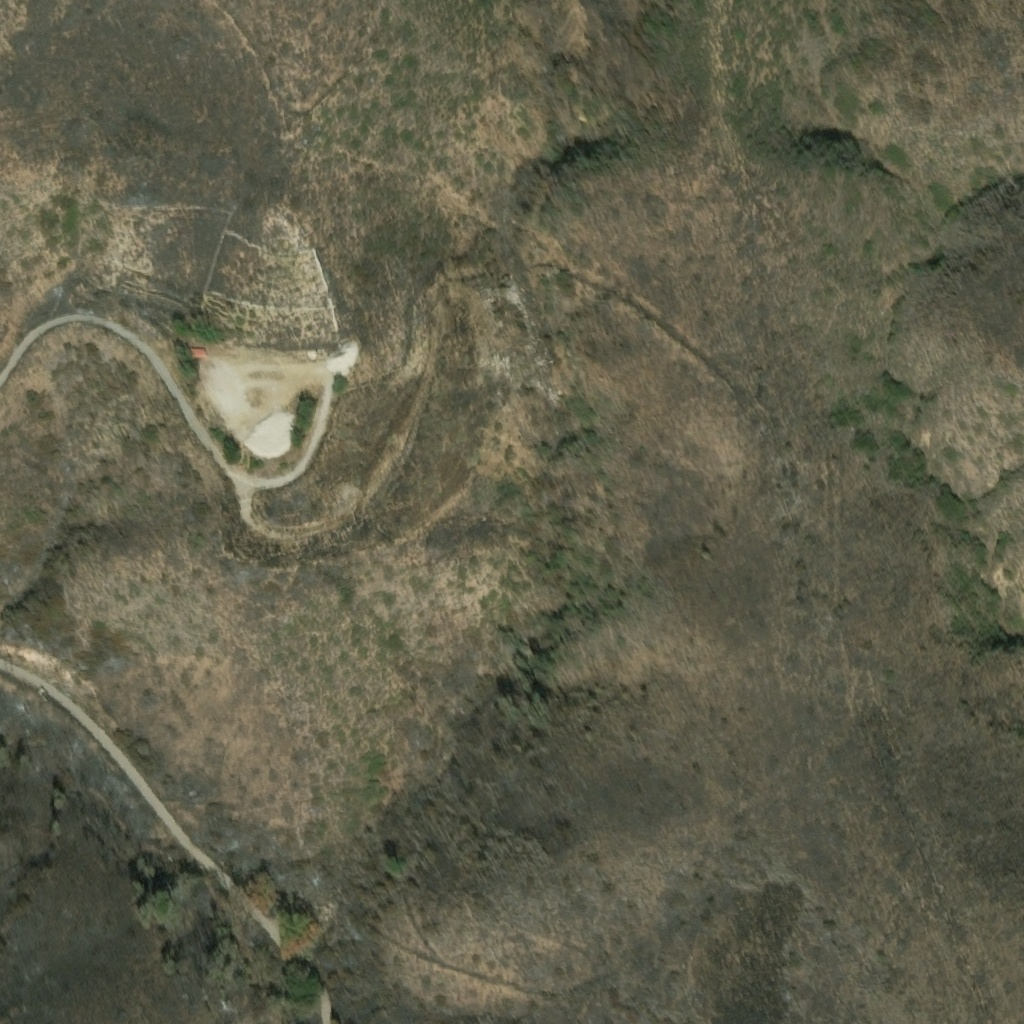0 no-damage: (190, 345, 204, 353)
